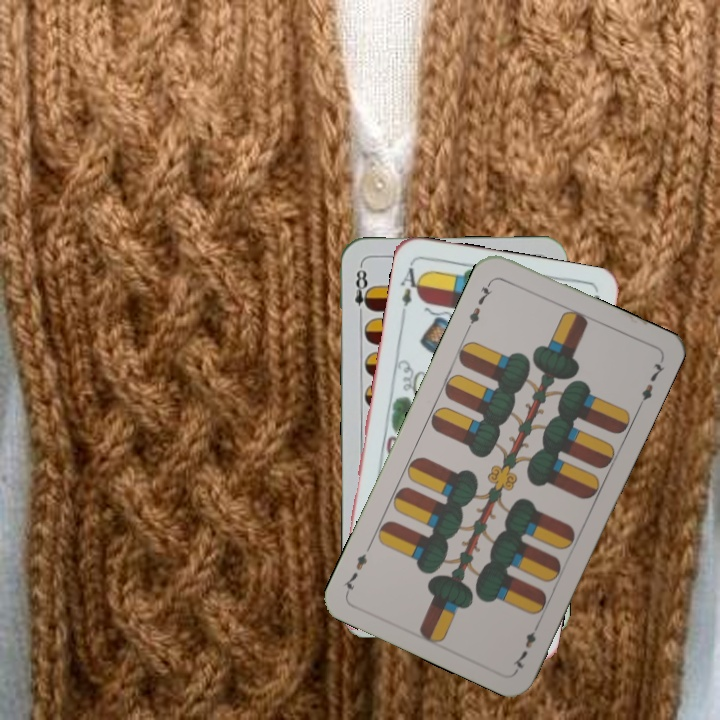E7: (508, 618, 543, 674), (463, 276, 496, 332)
E8: (351, 262, 374, 321)
EA: (396, 260, 425, 319)
